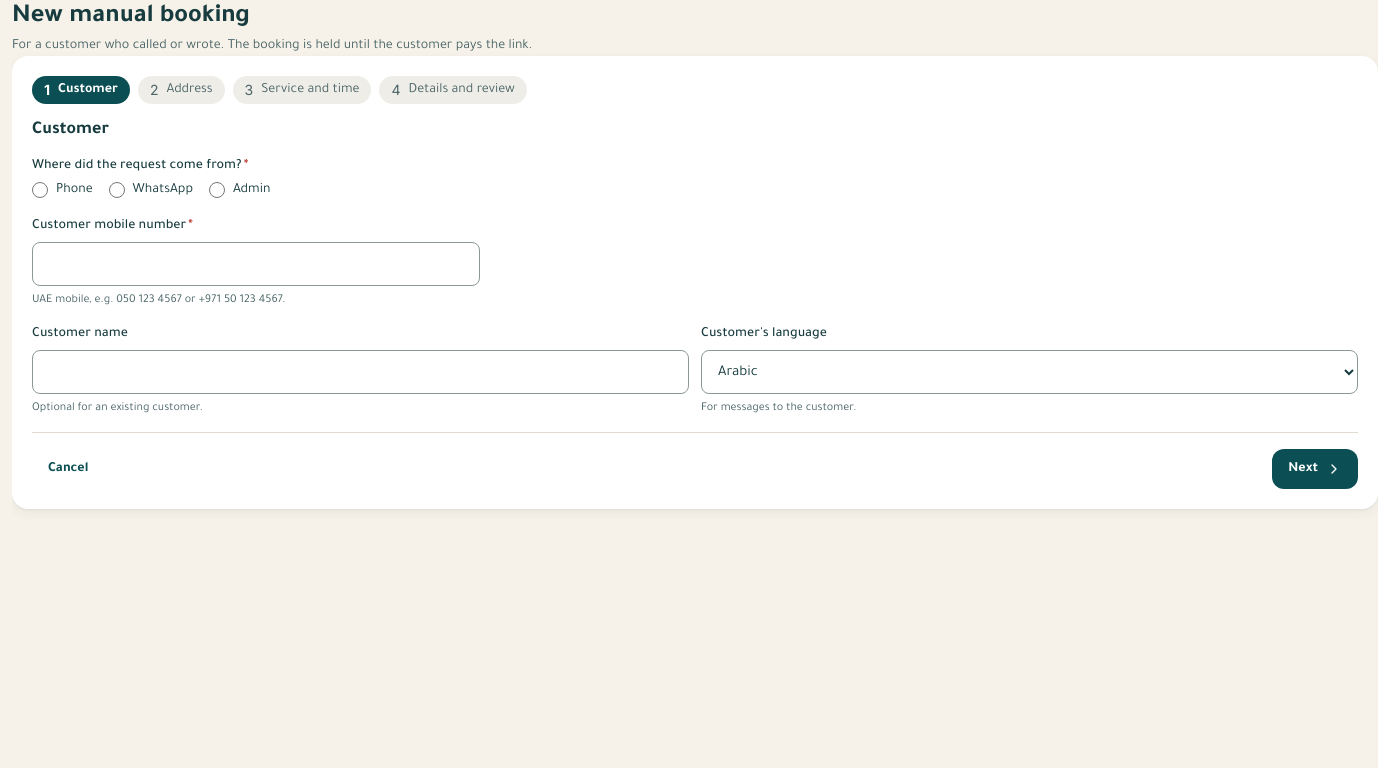
Test: A03 manual booking wizard › requires the source and a UAE mobile number before the next step
The image size is (1378, 768).
What coordinates should you click on to do the following:
click the button "Next"
I would click on:
 (1315, 469)
Its box is top-left (1272, 449), bottom-right (1358, 489).
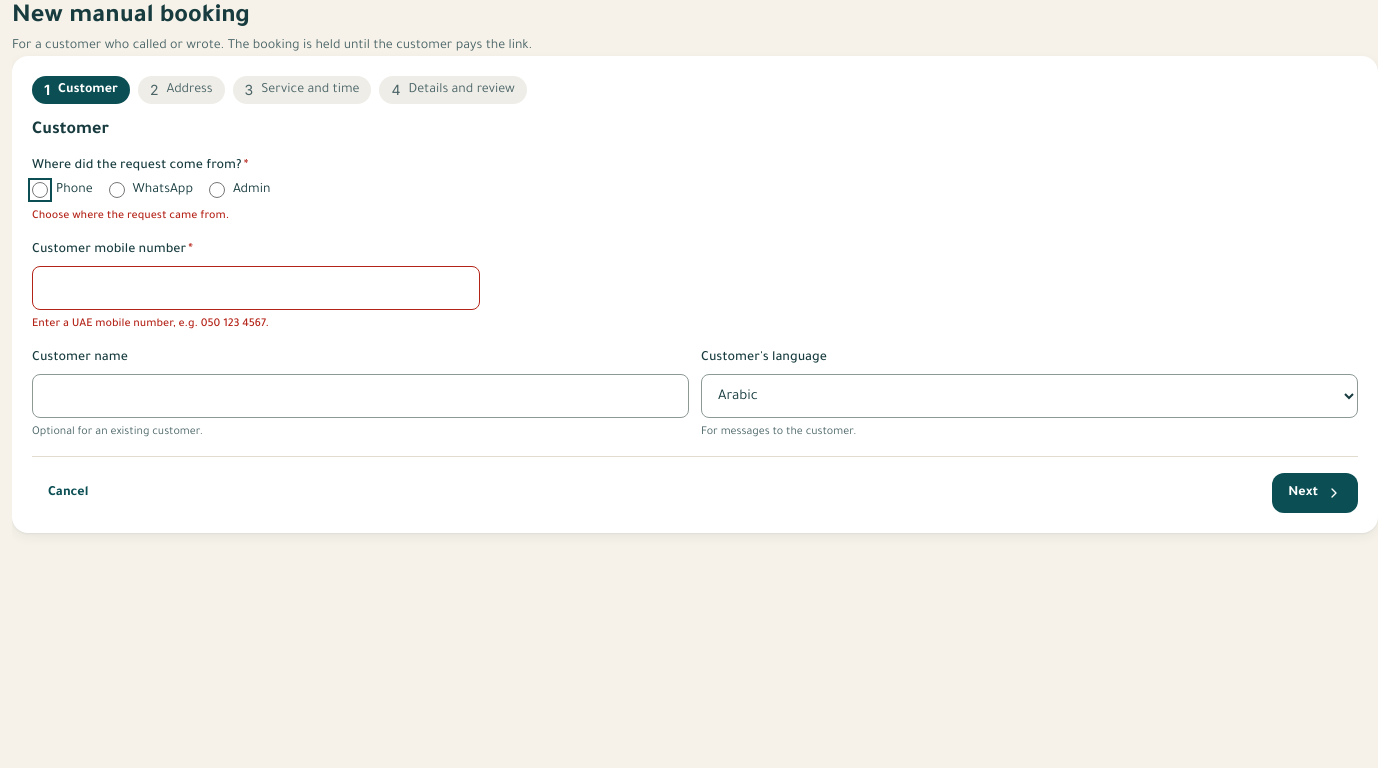
Check: the heading "Customer" is shown, box top-left (32, 121), bottom-right (109, 139)
Check: the text "Choose where the request came from." is shown, box top-left (32, 210), bottom-right (229, 222)
Check: the text "Enter a UAE mobile number, e.g. 050 123 4567." is shown, box top-left (32, 318), bottom-right (269, 330)
